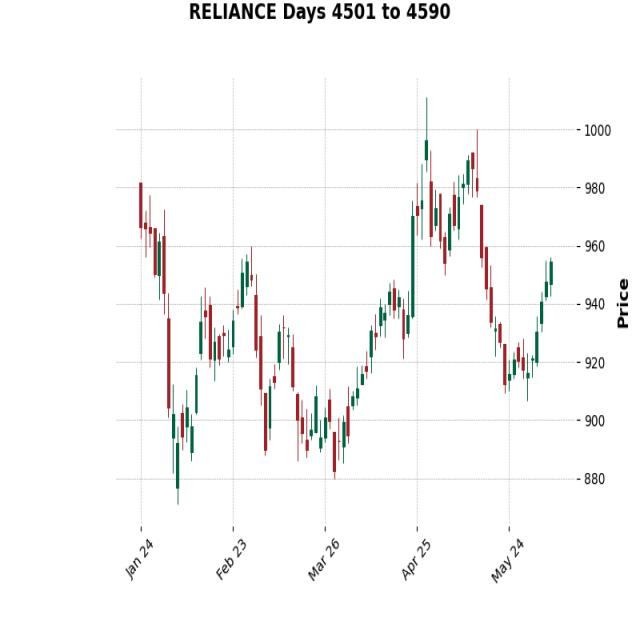Double Top: (406, 101, 508, 287)
